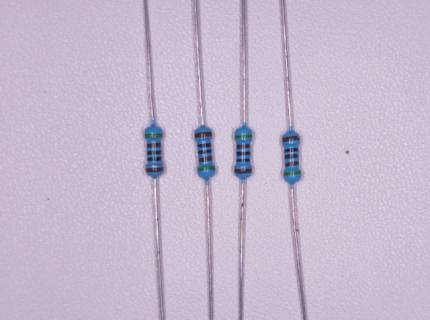Black band: (284, 148, 298, 153), (198, 143, 211, 148), (198, 149, 211, 154), (148, 157, 161, 161), (148, 150, 160, 154), (284, 155, 298, 158), (236, 152, 250, 155), (237, 159, 250, 162)
Brown band: (282, 135, 300, 142), (195, 132, 212, 138), (235, 168, 251, 174), (199, 156, 212, 163), (145, 167, 163, 172), (285, 162, 299, 167), (236, 145, 250, 149), (147, 143, 160, 147)
Green band: (198, 165, 214, 172), (146, 132, 163, 138), (284, 171, 301, 177), (235, 134, 251, 139)
